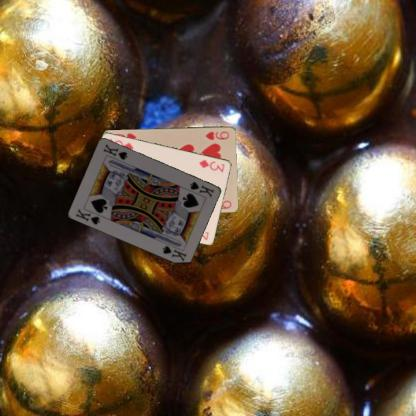3d: (196, 157, 226, 173)
9h: (203, 128, 230, 141)
Ks: (187, 179, 216, 199), (73, 206, 102, 226)
